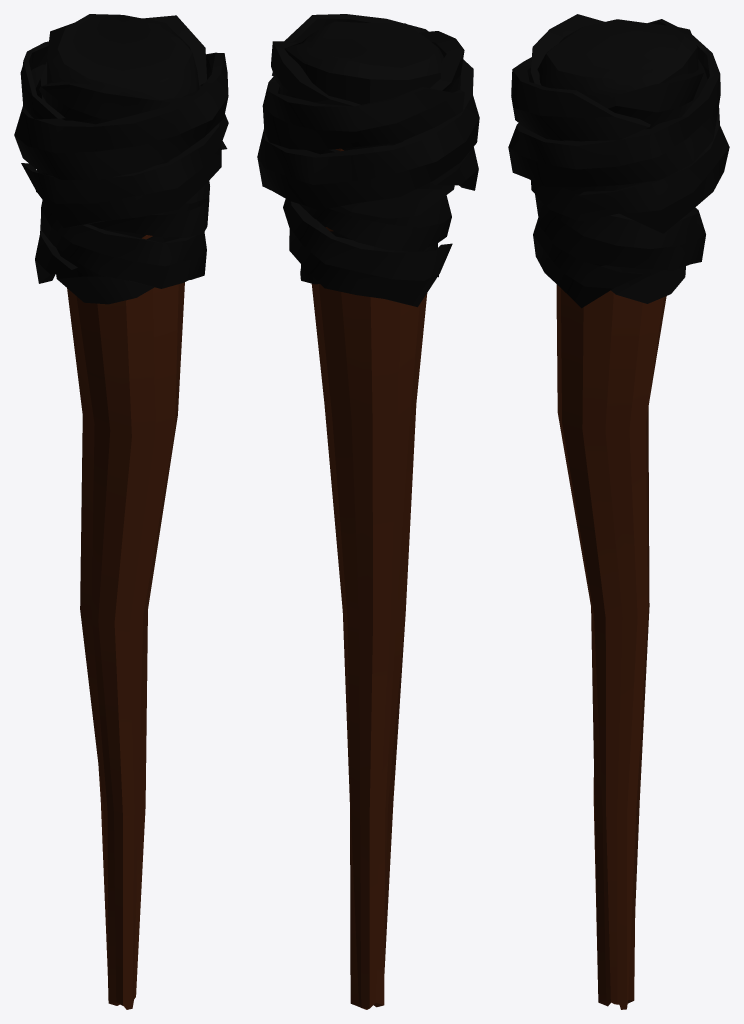
File: torchUE.fbx
3 views of the same model, side by side, from view 1: azimuth 30°, elevation 25°; view 2: azimuth 150°, elevation 25°; view 3: azimuth 270°, elevation 25° (orthographic).
Visible parts, largest first — view 1: LowPoly, LowPoly.001; view 2: LowPoly, LowPoly.001; view 3: LowPoly, LowPoly.001.
Part boxes in pixels (bbox=[...]): LowPoly: bbox=[14, 14, 228, 304]; LowPoly.001: bbox=[67, 235, 184, 1009]; LowPoly: bbox=[257, 14, 479, 307]; LowPoly.001: bbox=[311, 148, 427, 1009]; LowPoly: bbox=[508, 14, 729, 308]; LowPoly.001: bbox=[556, 284, 666, 1009].
Size of the model in its own units: 19.54 by 95.76 by 19.8.
